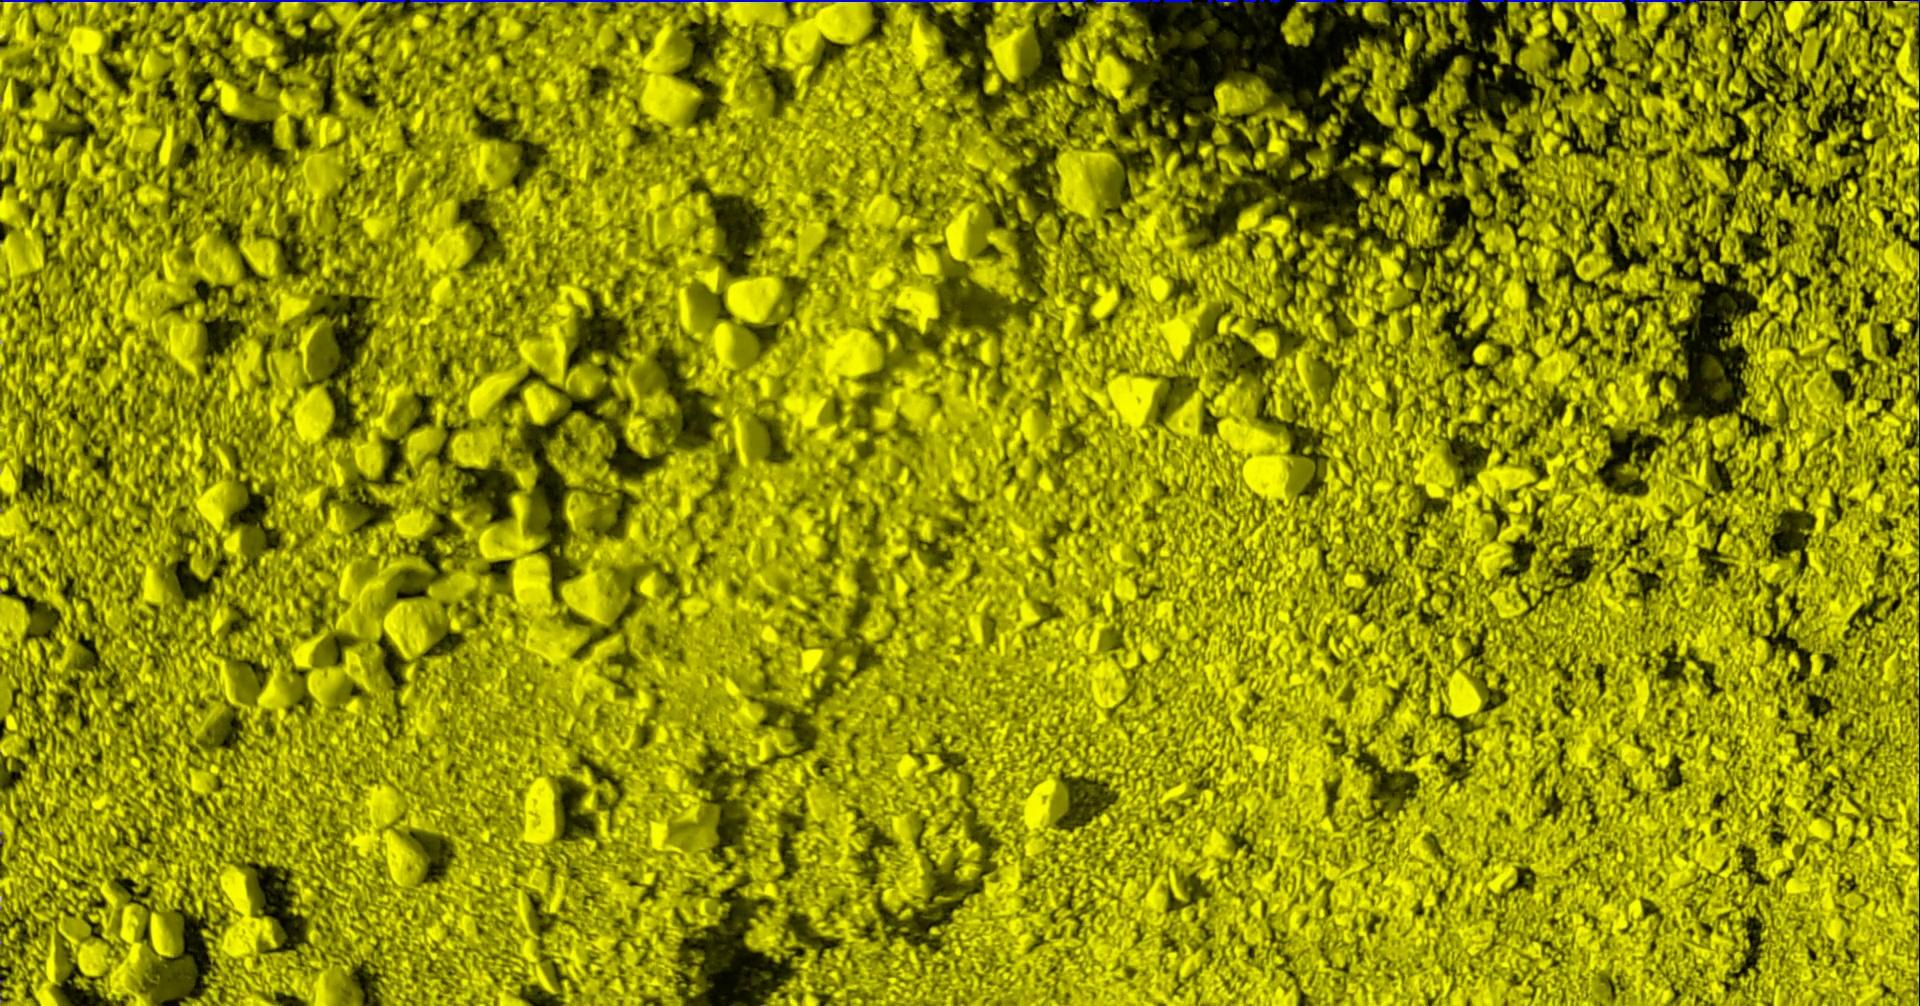ant: (1478, 0, 1699, 3), (1342, 0, 1470, 3), (1092, 0, 1192, 3), (1206, 0, 1280, 3), (1294, 0, 1336, 3)
